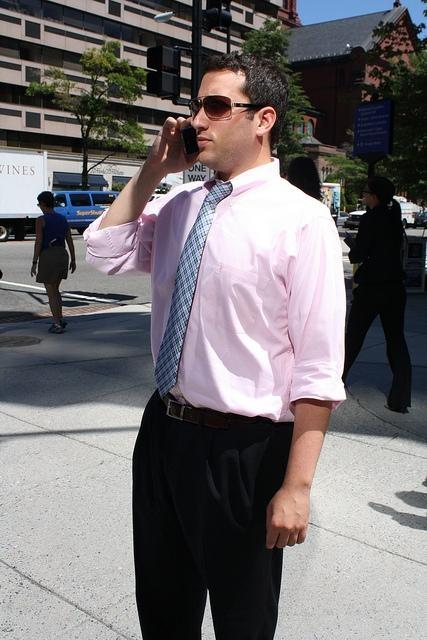car: (51, 191, 120, 234), (413, 212, 427, 230), (336, 211, 348, 225)
truck: (342, 192, 424, 248), (0, 146, 47, 242)
